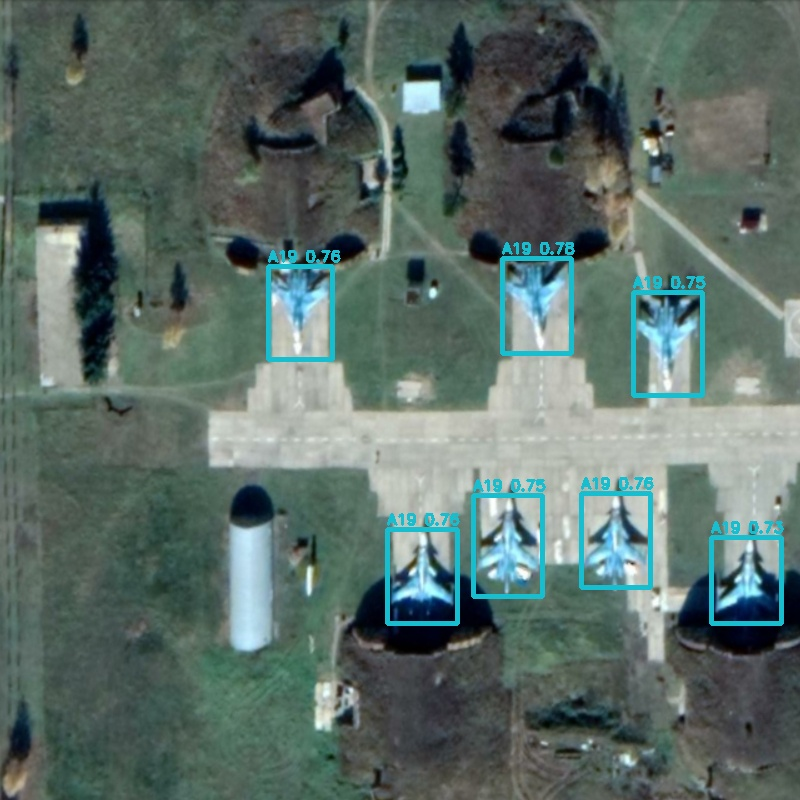A19: (633, 292, 702, 395), (473, 495, 542, 596), (387, 529, 457, 623), (502, 258, 571, 353), (581, 493, 650, 587), (711, 537, 781, 623), (268, 266, 332, 359)
